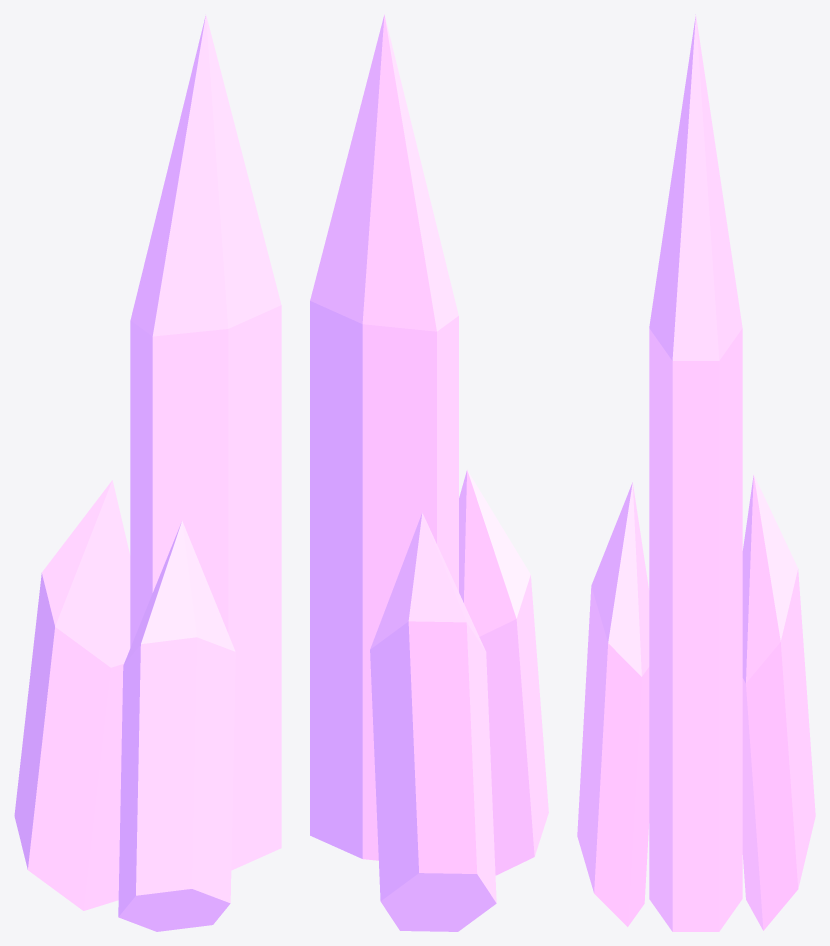
Rendered from cryst4.glb.
3 renders of one model, left to right at view 1: azimuth 30°, elevation 25°; view 2: azimuth 150°, elevation 25°; view 3: azimuth 270°, elevation 25°, orthographic. The views are drawn at different scales.
Visible parts, largest first — view 1: shard; view 2: shard; view 3: shard.
Boxes of the visible parts, left/top/right/bottom form: shard: left=14, top=15, right=281, bottom=931; shard: left=310, top=14, right=548, bottom=931; shard: left=577, top=14, right=815, bottom=931.
Bounding box in the file's own units: 1.5 × 6.1 × 1.4.
